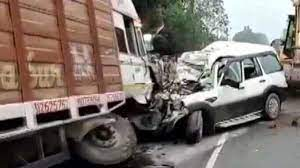accident: (11, 1, 288, 166)
